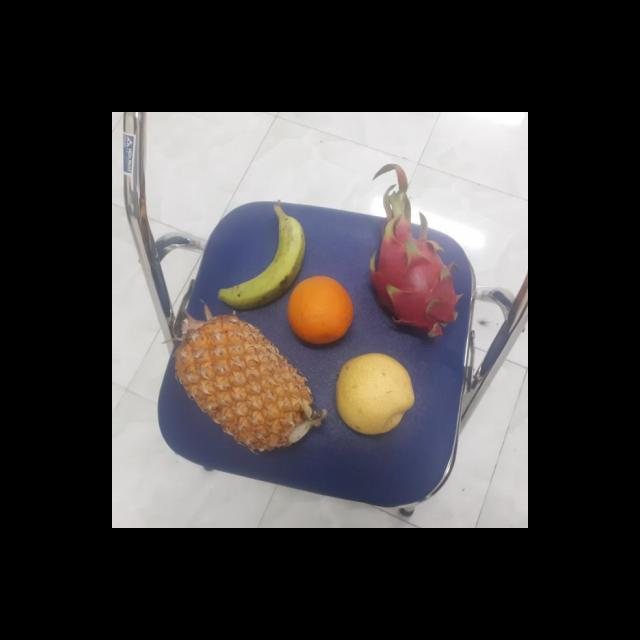banana: (202, 205, 306, 312)
orange: (285, 274, 354, 345)
pear: (332, 354, 416, 434)
pineapple: (168, 316, 318, 451)
pitaya: (366, 221, 460, 340)
